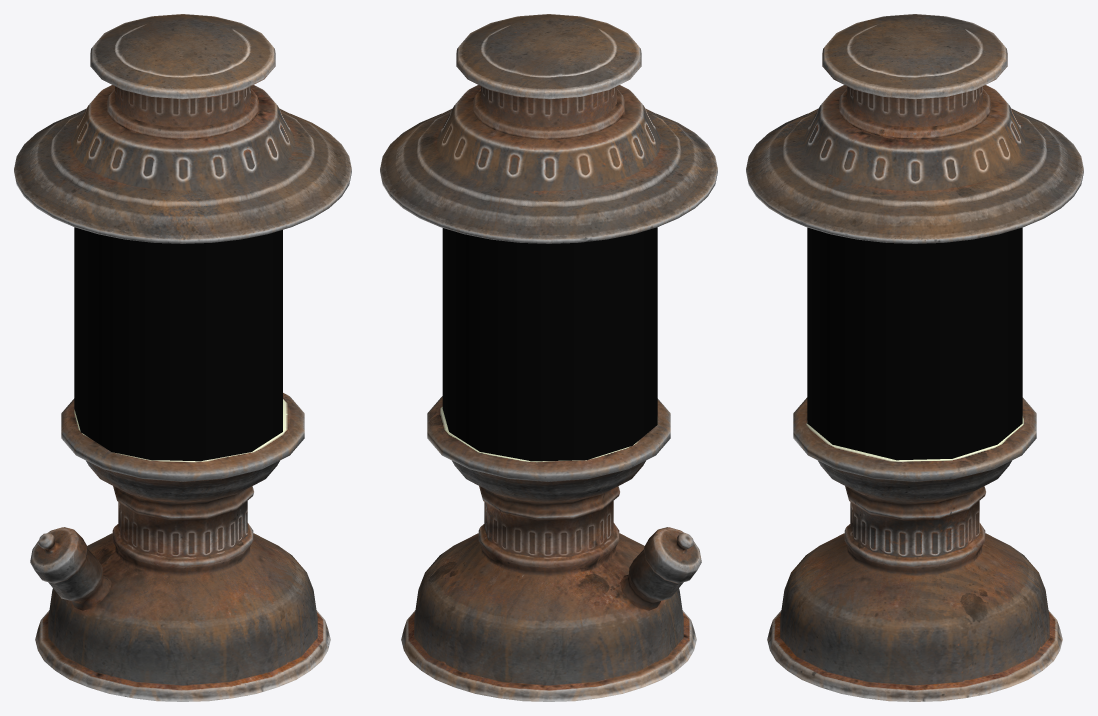
Rendered from oil_lamp.fbx.
3 renders of one model, left to right at view 1: azimuth 30°, elevation 25°; view 2: azimuth 150°, elevation 25°; view 3: azimuth 270°, elevation 25°, orthographic.
Visible parts, largest first — view 1: OilLamp_LOD_0; view 2: OilLamp_LOD_0; view 3: OilLamp_LOD_0.
Boxes of the visible parts, x1,y1,x2,y2 form: OilLamp_LOD_0: (14, 14, 351, 701); OilLamp_LOD_0: (380, 14, 717, 701); OilLamp_LOD_0: (746, 14, 1083, 701).
Size of what is drawn, in the model's own units: 15.79 by 30.59 by 15.68.
Materials: 1 (1 with a texture image).
